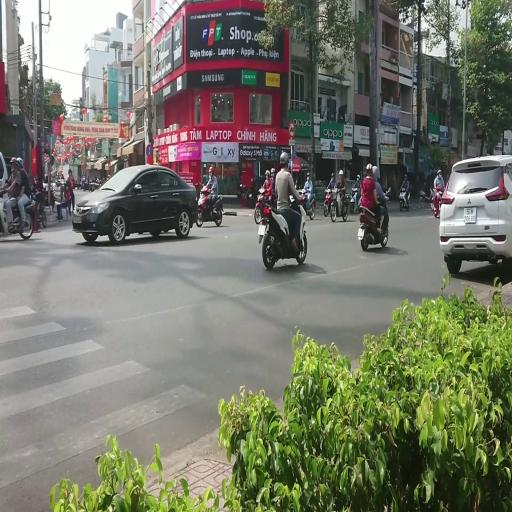bikes: (257, 194, 308, 270), (357, 188, 390, 250), (0, 187, 34, 239), (195, 184, 223, 227), (26, 187, 46, 229), (254, 188, 275, 224), (330, 186, 348, 221), (298, 190, 316, 220), (243, 178, 259, 207), (430, 186, 444, 218), (349, 180, 362, 212), (419, 186, 434, 210), (324, 187, 334, 216), (399, 186, 410, 211), (88, 176, 102, 192), (59, 180, 68, 201), (194, 182, 203, 201), (237, 183, 248, 198), (383, 186, 391, 202)
helmet: (280, 152, 288, 164), (372, 166, 378, 180), (16, 157, 24, 167), (366, 163, 373, 174), (33, 172, 38, 184), (10, 157, 17, 164), (208, 166, 214, 173), (288, 159, 292, 169), (258, 188, 264, 194), (265, 170, 270, 177), (437, 168, 442, 175), (270, 168, 275, 174), (436, 186, 441, 192), (387, 187, 391, 194), (339, 170, 343, 176), (306, 172, 310, 178), (251, 178, 255, 184), (331, 172, 334, 178), (404, 173, 407, 179), (357, 174, 360, 180), (82, 176, 85, 182), (34, 172, 37, 178), (68, 169, 72, 173)
